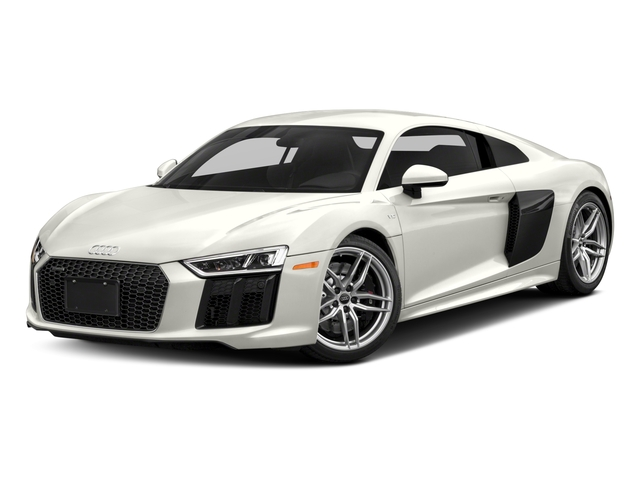audi: (22, 104, 618, 368)
